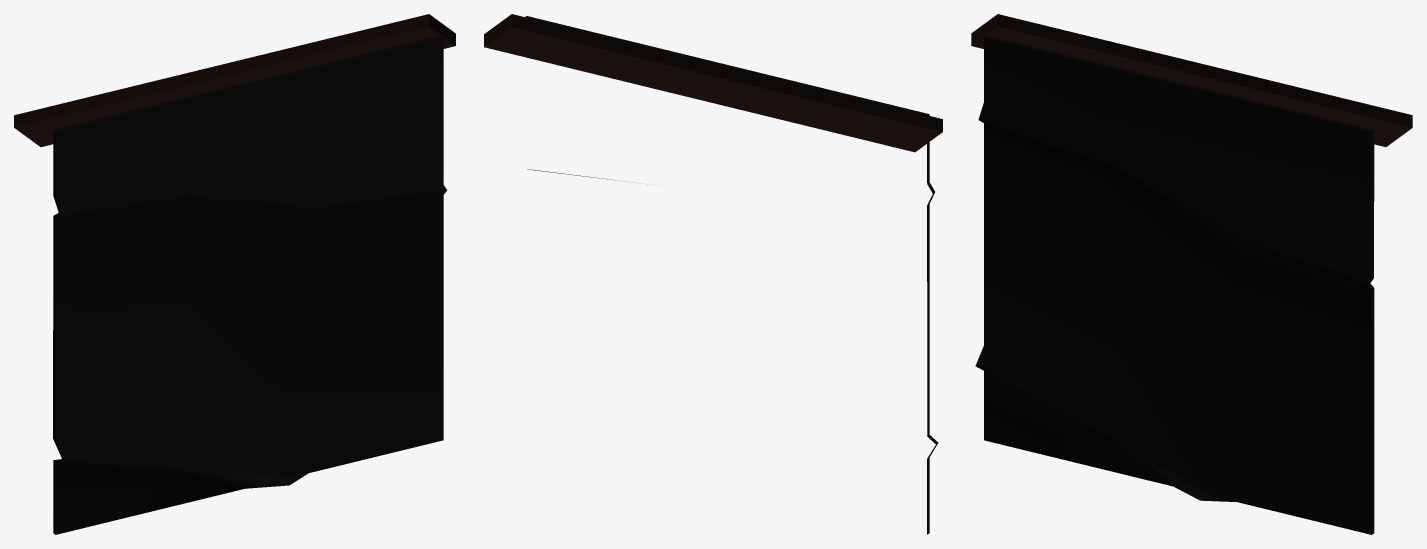
The model's file is hangingCanvas_1.glb.
3 renders of one model, left to right at view 1: azimuth 30°, elevation 25°; view 2: azimuth 150°, elevation 25°; view 3: azimuth 330°, elevation 25°, orthographic. The views are drawn at different scales.
Parts seen in each view (by area): view 1: A_PaintingMesh, Cube; view 2: Cube, A_PaintingMesh; view 3: A_PaintingMesh, Cube.
Part boxes in pixels (x1=…): A_PaintingMesh: x1=53, y1=35, x2=447, y2=534; Cube: x1=14, y1=14, x2=455, y2=146; Cube: x1=484, y1=14, x2=942, y2=152; A_PaintingMesh: x1=524, y1=16, x2=938, y2=534; A_PaintingMesh: x1=975, y1=35, x2=1374, y2=534; Cube: x1=971, y1=14, x2=1412, y2=146.
Size of the model in its own units: 1.07 by 0.9904 by 0.1619.
Materials: 2 (1 with a texture image).
